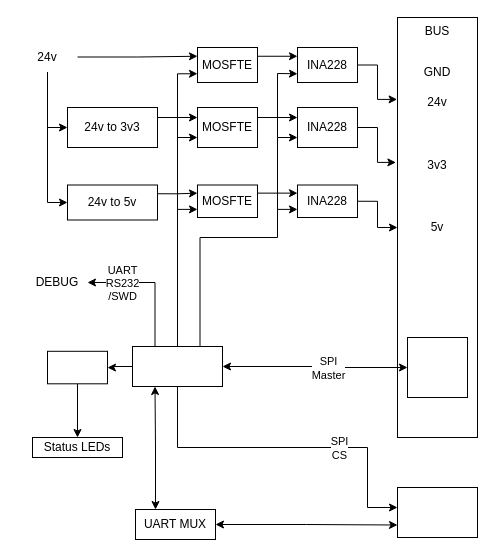
Image size: 495x557. Some labels were removed from this diagram. Each missing label, with the centre of its shape:
Each Module direct: the point at 437,512
MCP23017: the point at 77,367
MCU: the point at 177,366
SPI: the point at 437,367
